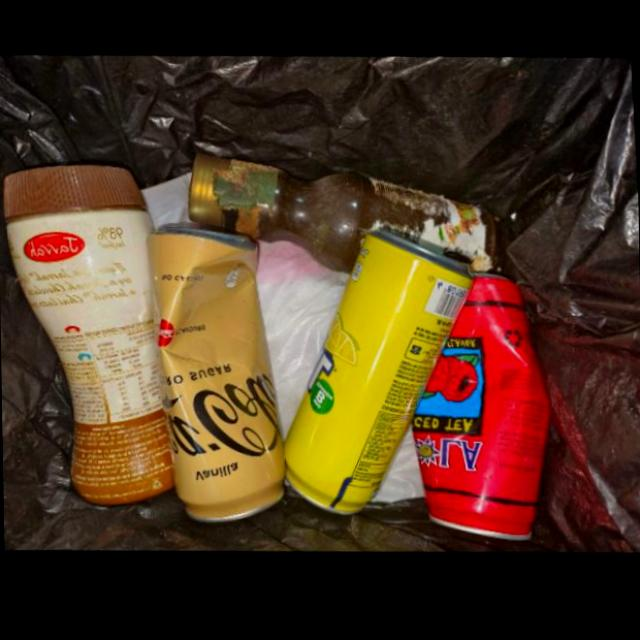chai_nhua: (3, 172, 177, 516)
chai_thuy_tinh: (188, 160, 501, 277)
nhom: (285, 233, 474, 521), (147, 229, 287, 531), (412, 274, 552, 544)
